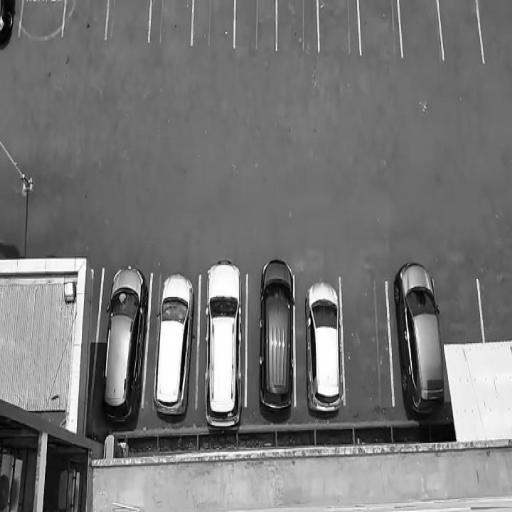Car: (389, 262, 445, 418), (102, 268, 148, 434), (204, 262, 246, 435), (255, 254, 298, 421), (152, 272, 198, 423), (303, 272, 349, 418)
Space Available: (346, 276, 386, 406), (438, 270, 476, 343), (442, 0, 478, 59), (480, 272, 512, 335), (278, 0, 316, 52), (319, 0, 357, 50), (195, 0, 232, 51), (402, 0, 437, 52), (237, 1, 274, 50), (360, 3, 398, 50), (482, 1, 512, 60), (152, 2, 191, 44), (67, 1, 105, 39), (111, 2, 147, 42), (24, 1, 61, 32)
